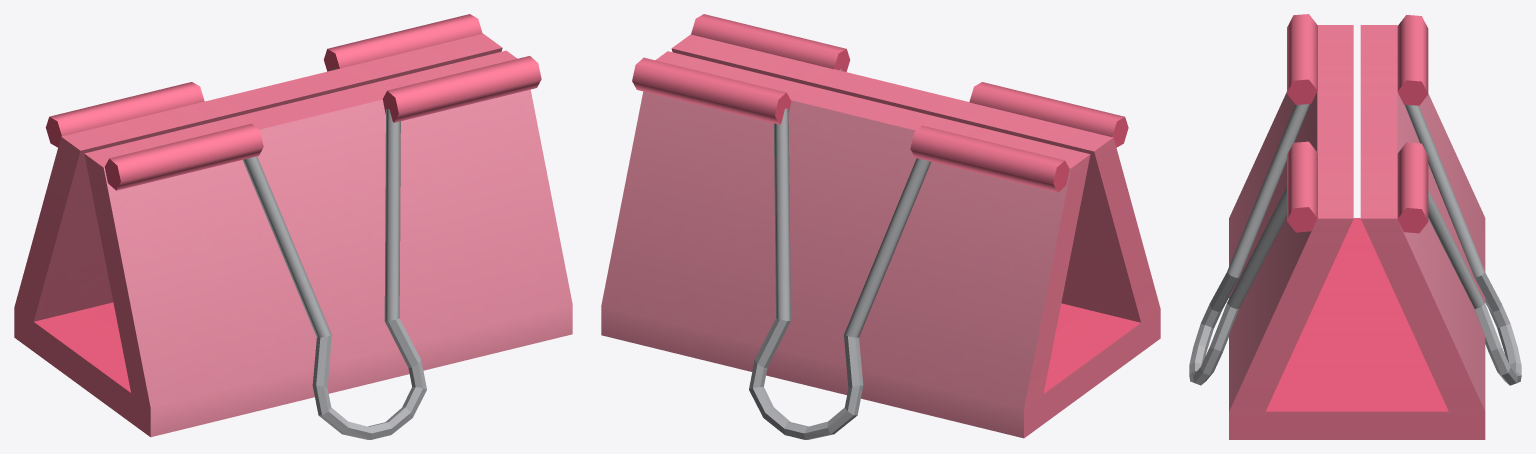
Rendered from SM_Clip001.fbx.
The picture shows the model from 3 angles, left to right: view 1: azimuth 30°, elevation 25°; view 2: azimuth 150°, elevation 25°; view 3: azimuth 270°, elevation 25°; orthographic projection. The views are drawn at different scales.
Visible parts, largest first — view 1: SM_Clip001; view 2: SM_Clip001; view 3: SM_Clip001.
Boxes of the visible parts, x1,y1,x2,y2 form: SM_Clip001: [14, 14, 572, 439]; SM_Clip001: [601, 14, 1160, 439]; SM_Clip001: [1189, 14, 1521, 439].
Size of the model in its own units: 14.74 by 9.57 by 10.69.
